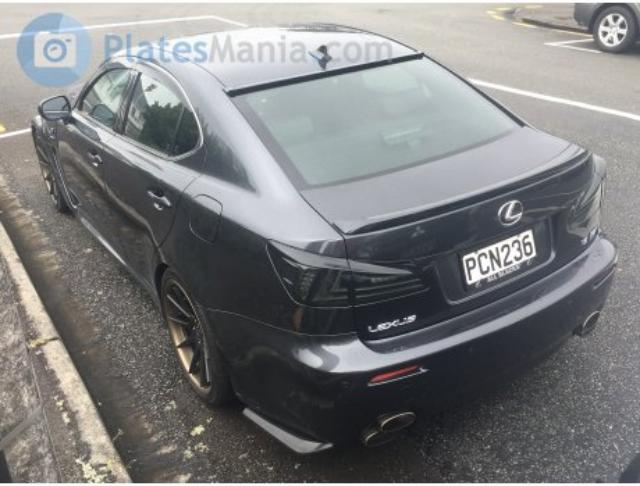Rego: (459, 227, 538, 288)
